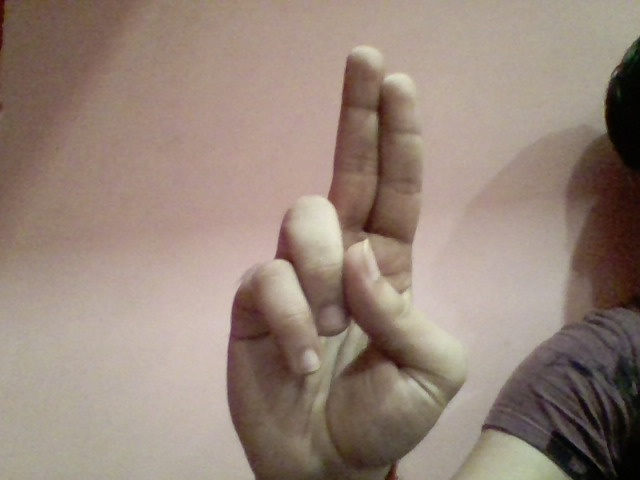u: (214, 39, 475, 472)
